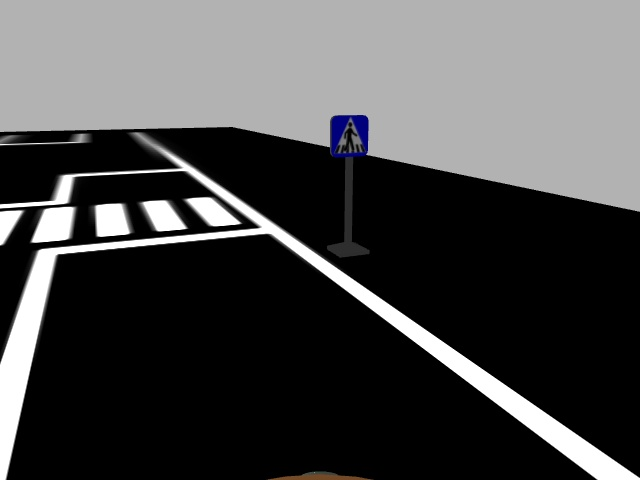crosswalk: (328, 113, 370, 159)
